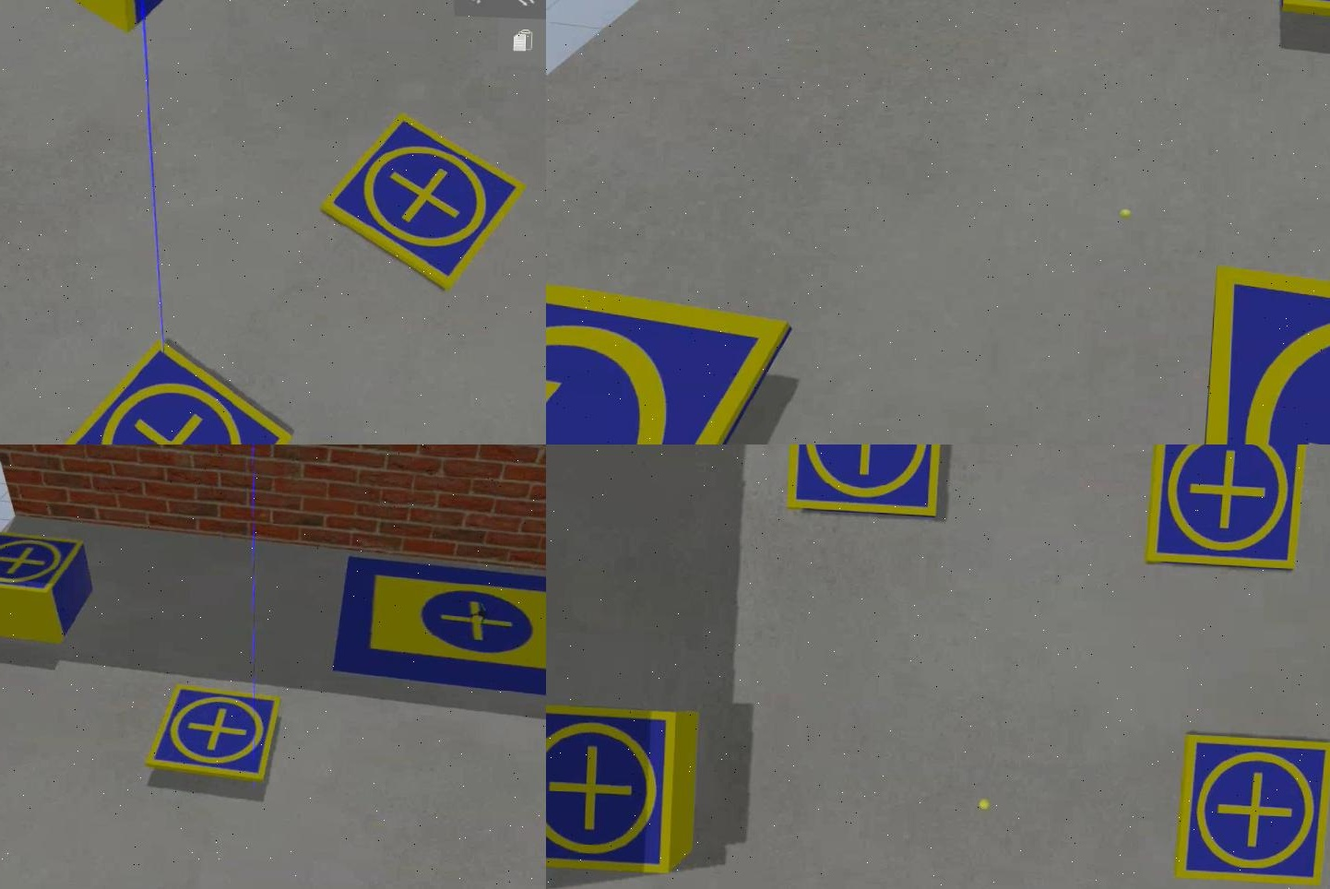large_base: (328, 561, 545, 705)
small_base: (545, 271, 791, 445), (315, 113, 525, 291), (42, 336, 294, 445), (1167, 730, 1328, 889), (545, 702, 681, 878), (1200, 262, 1328, 445), (1141, 445, 1311, 571), (142, 691, 273, 788), (786, 445, 942, 516), (0, 531, 83, 601)
